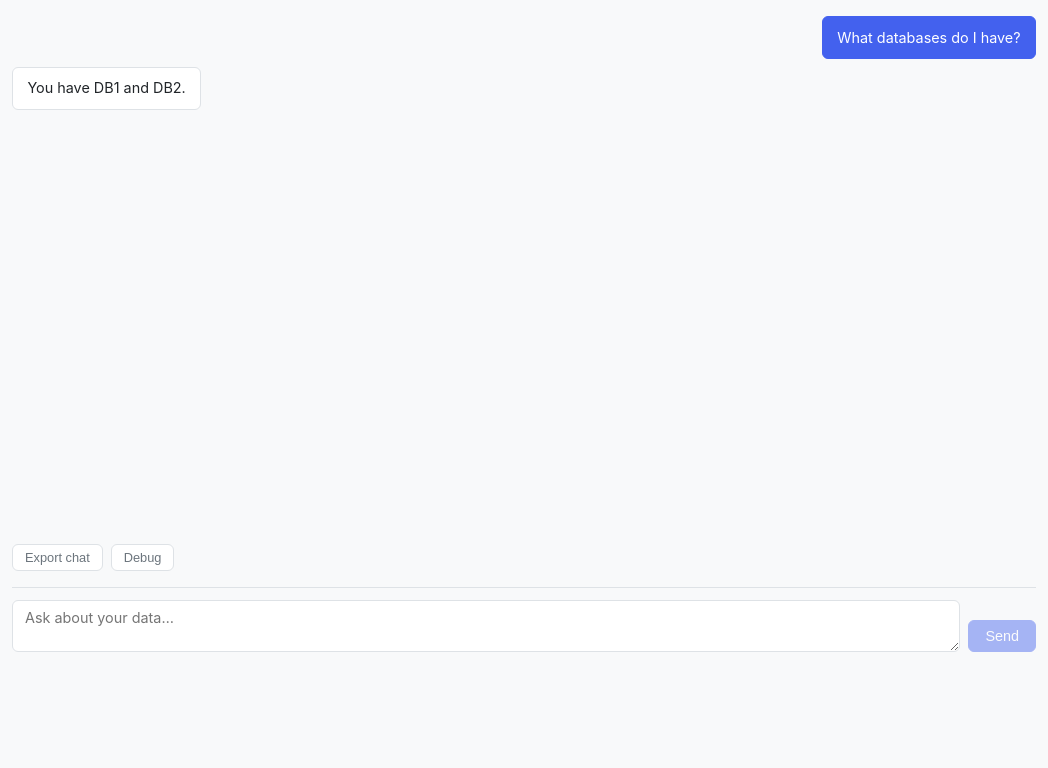
ExploreChat › should close debug panel when Debug is clicked again
Click the button "Debug" at (143, 558), box [111, 544, 174, 571]
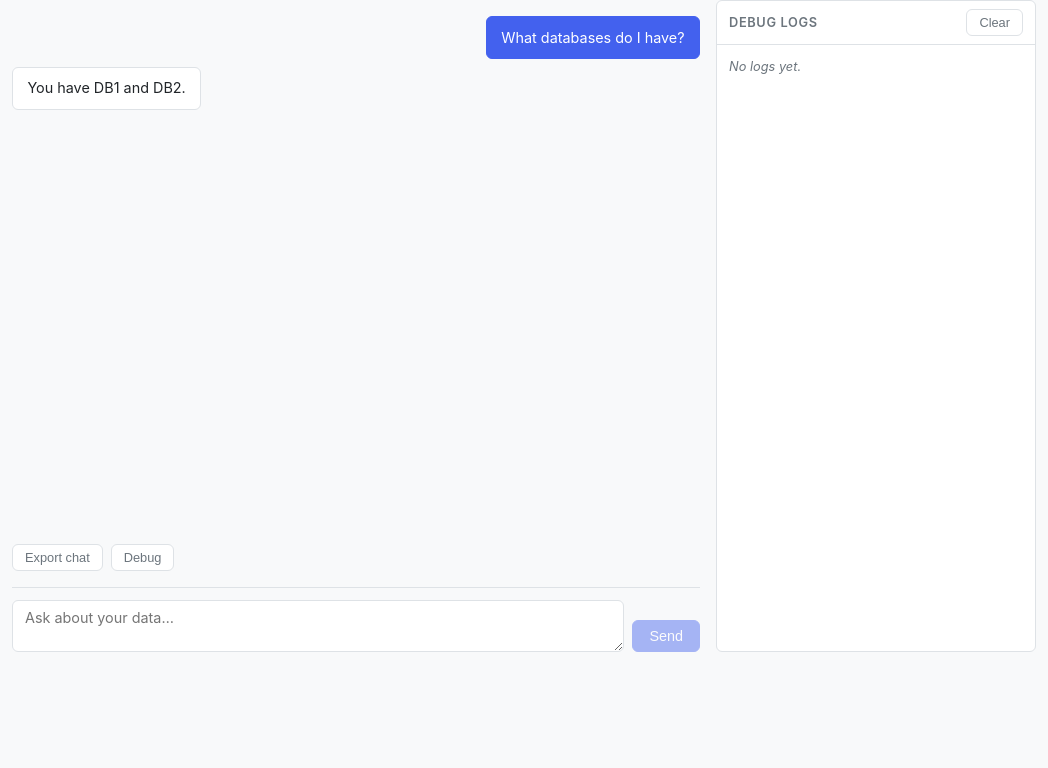
Click the button "Debug" at (143, 558), box [111, 544, 174, 571]
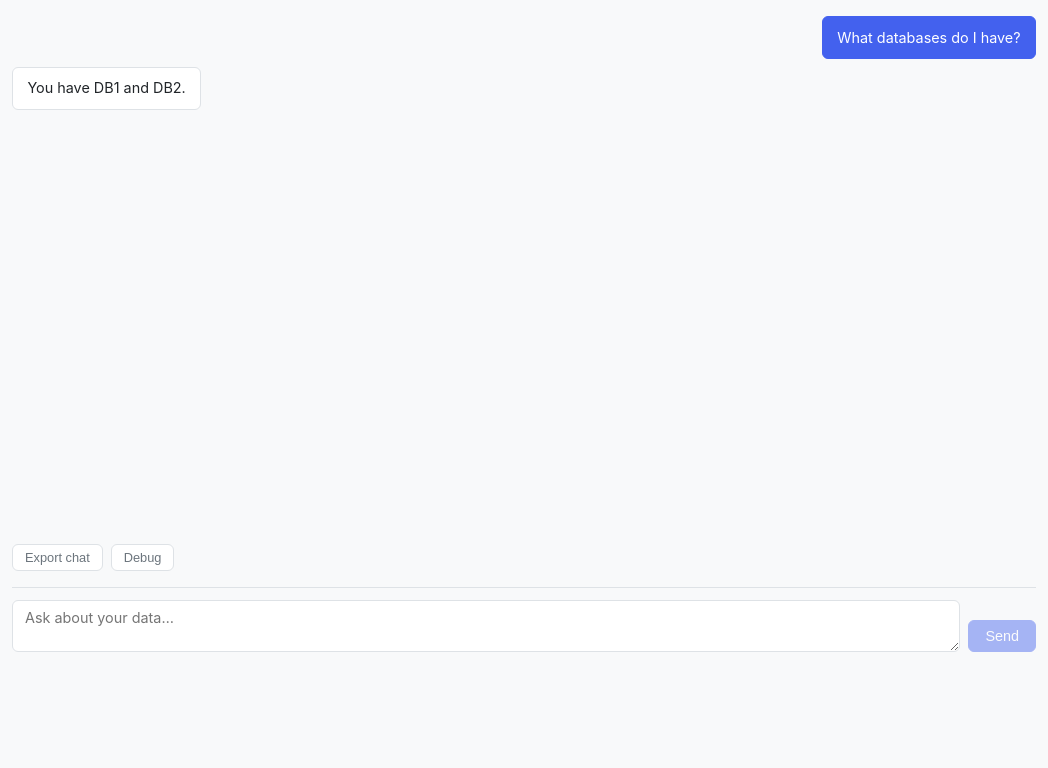
Expected: the button "Clear" is gone
